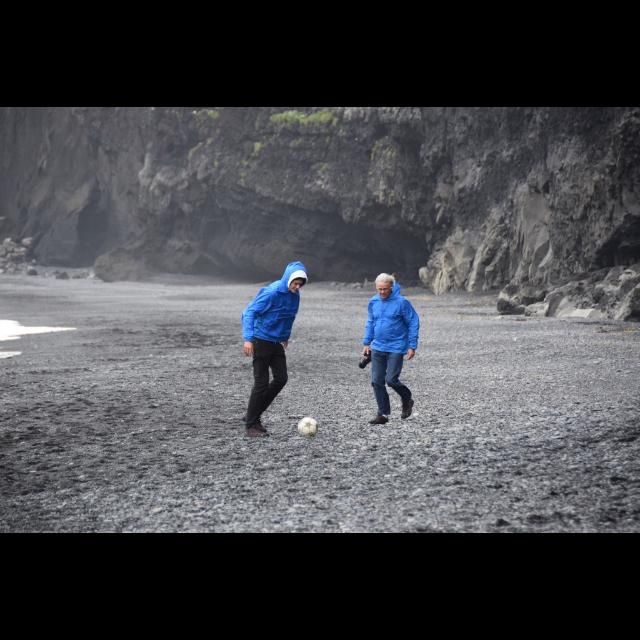Football: (296, 416, 318, 436)
